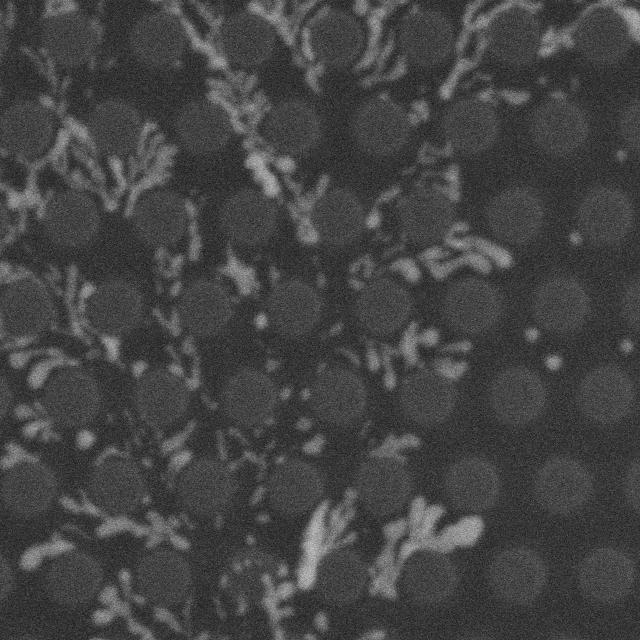Dendrite: (85, 488, 483, 640), (153, 0, 333, 245), (193, 34, 314, 242), (7, 116, 174, 234), (0, 254, 149, 377), (20, 488, 190, 571), (439, 0, 520, 99), (369, 145, 461, 229), (390, 221, 512, 283), (92, 570, 198, 640), (251, 0, 329, 91), (153, 250, 201, 388), (541, 0, 640, 58), (352, 0, 410, 87), (337, 343, 399, 390), (398, 320, 440, 368), (219, 249, 260, 296), (366, 341, 400, 390), (15, 402, 58, 439), (153, 248, 186, 294), (348, 254, 388, 288), (160, 421, 196, 456), (183, 198, 202, 262), (371, 434, 420, 458), (476, 87, 531, 105), (430, 355, 468, 381), (0, 442, 36, 469), (167, 445, 192, 481), (186, 206, 202, 262), (332, 44, 361, 71), (216, 430, 231, 463), (302, 434, 325, 455), (409, 100, 429, 123), (75, 432, 95, 449), (254, 313, 268, 330), (448, 343, 467, 352), (194, 235, 195, 236), (514, 87, 516, 87)
